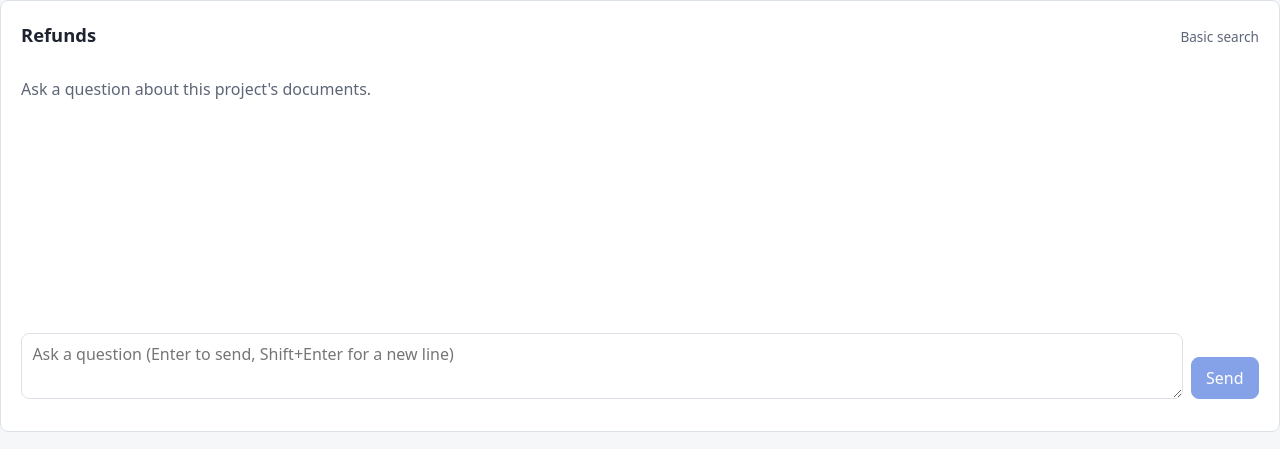
a failed answer shows the error, saves nothing, and puts the question back
The image size is (1280, 449).
Step 1. Type "Q" into the text box named "Your question" → {"x": 602, "y": 366}, box [21,333,1183,399]
Then press Enter
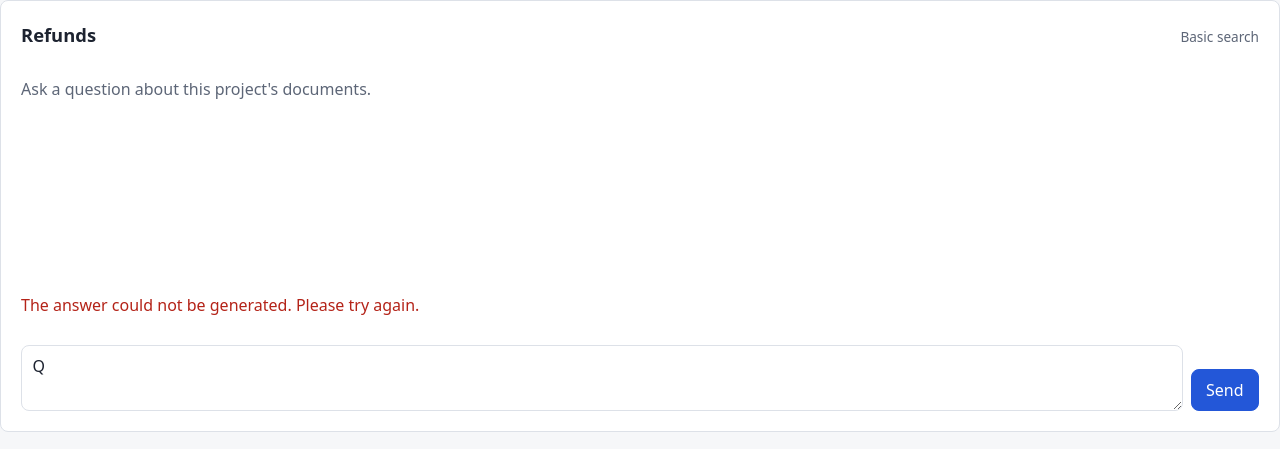
Result: the message shows "The answer could not be generated" at [21,294,419,316]
